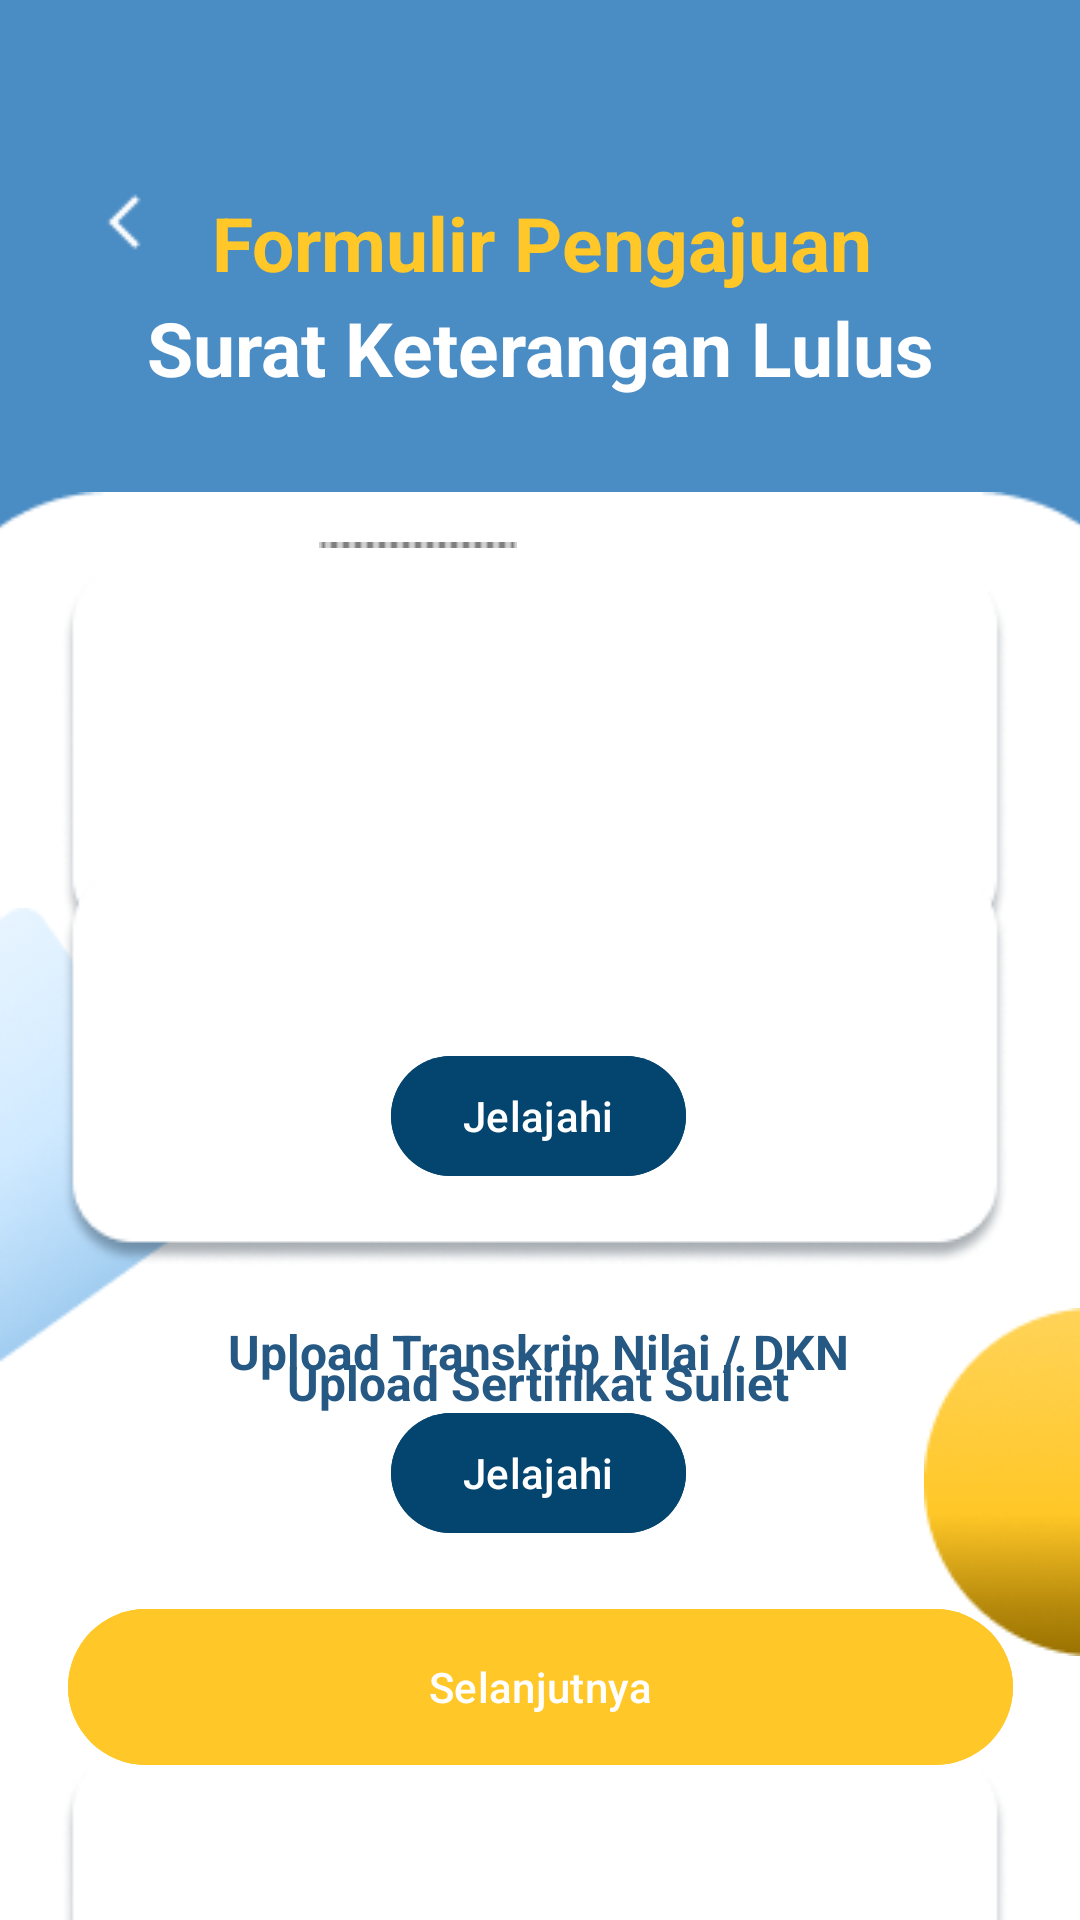

Named icons in this screenshot (1080*1920) and their bounding boxes, {"x1": x1, "y1": y1, "x2": x2, "y2": y2}:
back: {"x1": 109, "y1": 194, "x2": 141, "y2": 250}
